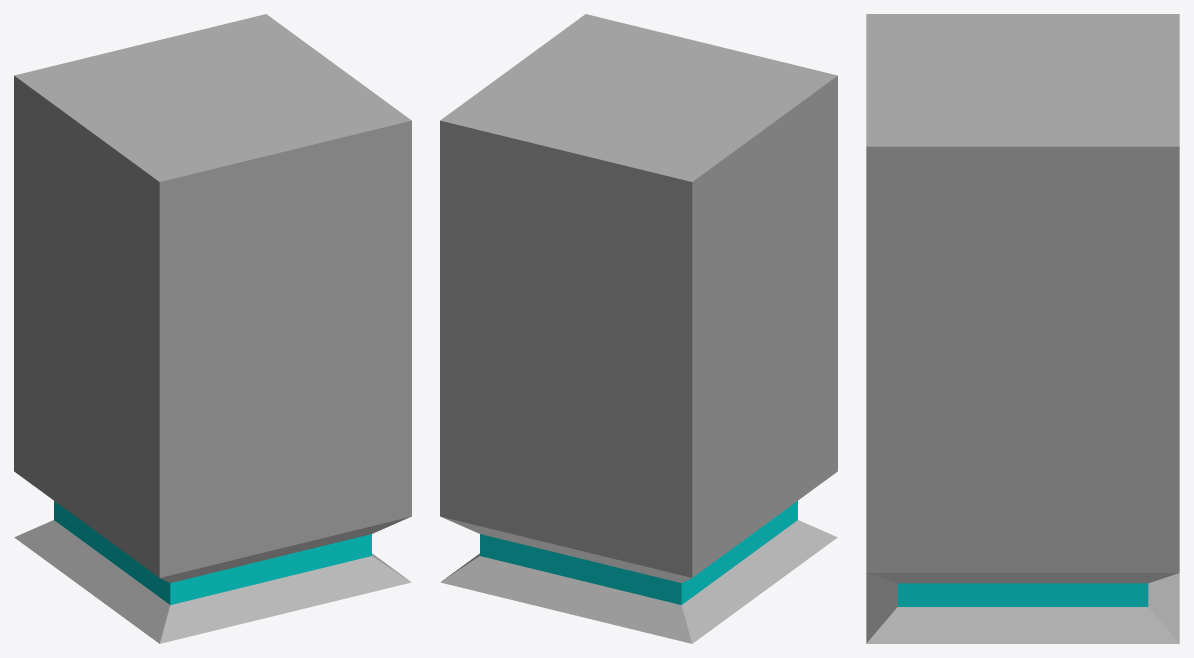
The model's file is BasicWall.fbx.
3 renders of one model, left to right at view 1: azimuth 30°, elevation 25°; view 2: azimuth 150°, elevation 25°; view 3: azimuth 270°, elevation 25°, orthographic. The views are drawn at different scales.
Parts seen in each view (by area): view 1: Cube; view 2: Cube; view 3: Cube.
Boxes of the visible parts, box(x1,y1,x2,y2) form: Cube: box(14, 14, 411, 643); Cube: box(440, 14, 837, 643); Cube: box(866, 14, 1179, 643).
Size of the model in its own units: 200 by 350 by 200.
